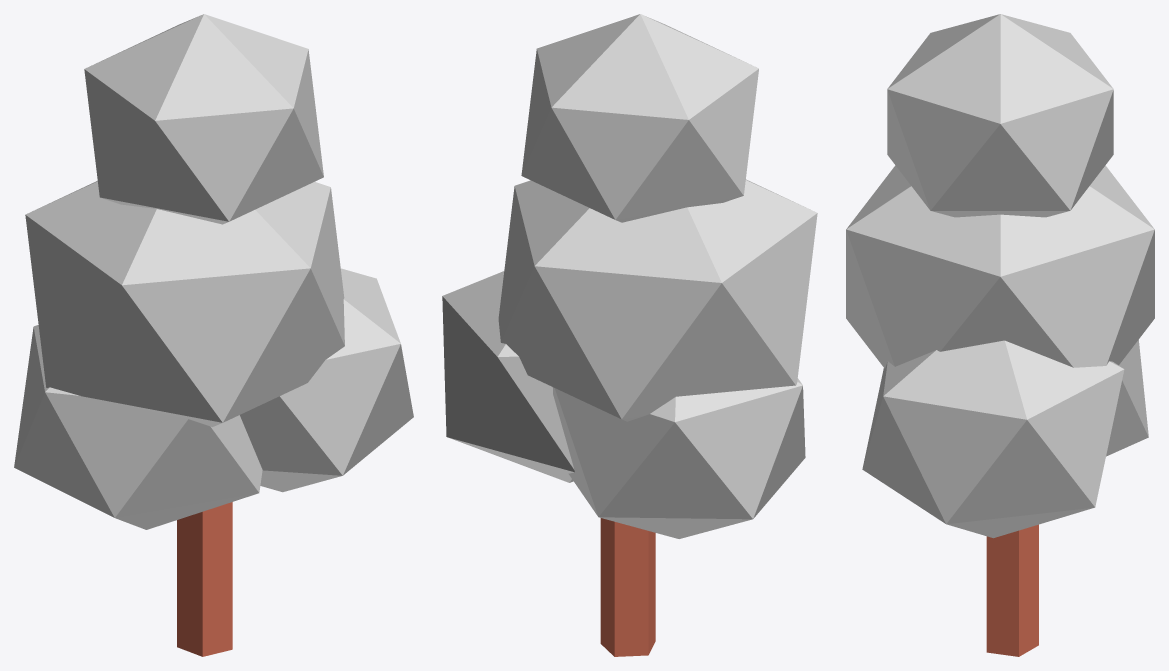
File: TreeModel2.dae
3 views of the same model, side by side, from view 1: azimuth 30°, elevation 25°; view 2: azimuth 150°, elevation 25°; view 3: azimuth 270°, elevation 25° (orthographic).
Parts seen in each view (by area): view 1: leaf, leaf.004, leaf.002, leaf.001, stem; view 2: leaf, leaf.004, leaf.002, leaf.001, stem; view 3: leaf, leaf.001, leaf.004, stem, leaf.002.
Part boxes in pixels (x1,y1,x2,y2): leaf: [25, 181, 344, 426]; leaf.004: [84, 14, 323, 224]; leaf.002: [14, 325, 262, 529]; leaf.001: [240, 268, 413, 492]; stem: [177, 502, 232, 656]; leaf: [498, 179, 817, 421]; leaf.004: [521, 14, 758, 222]; leaf.002: [552, 378, 805, 538]; leaf.001: [442, 271, 574, 482]; stem: [600, 518, 655, 656]; leaf: [846, 165, 1154, 368]; leaf.001: [862, 340, 1124, 538]; leaf.004: [887, 14, 1113, 217]; stem: [986, 524, 1038, 656]; leaf.002: [1106, 340, 1148, 456].
Size of the model in its own units: 3.74 by 2.91 by 6.54.
